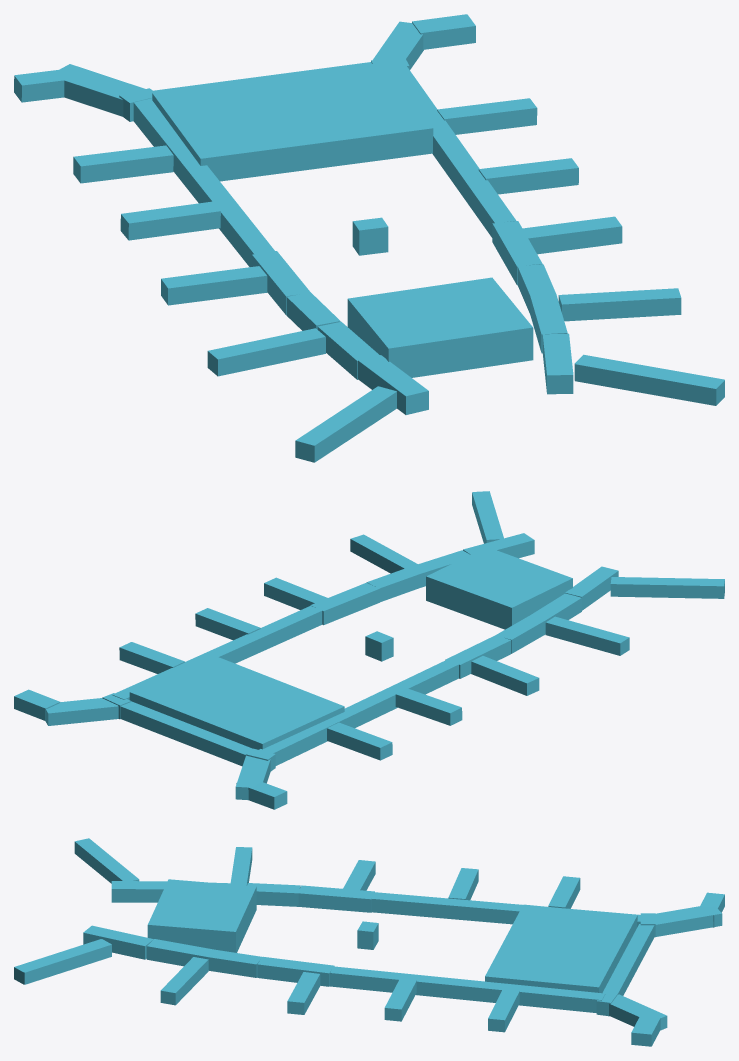
The model's file is boundBox1.obj.
3 views of the same model, one above another, from view 1: azimuth 30°, elevation 25°; view 2: azimuth 150°, elevation 25°; view 3: azimuth 270°, elevation 25° (orthographic). The views are drawn at different scales.
Visible parts, largest first — view 1: Box023; view 2: Box023; view 3: Box023.
Part boxes in pixels (x1,y1,x2,y2): Box023: (14, 14, 724, 462); Box023: (14, 491, 724, 809); Box023: (14, 838, 724, 1046).
Bounding box in the file's own units: 93.67 × 5.24 × 143.
